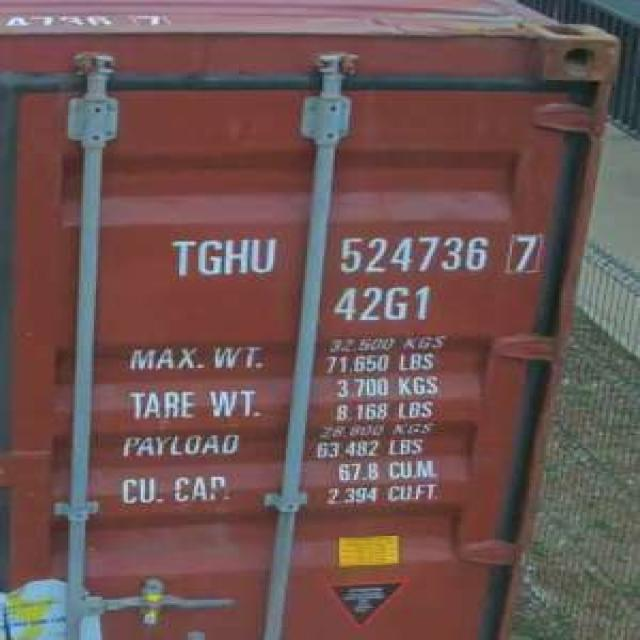dv: (499, 229, 546, 277)
owner: (164, 230, 282, 280)
serial: (330, 230, 492, 278)
size: (326, 282, 433, 326)
